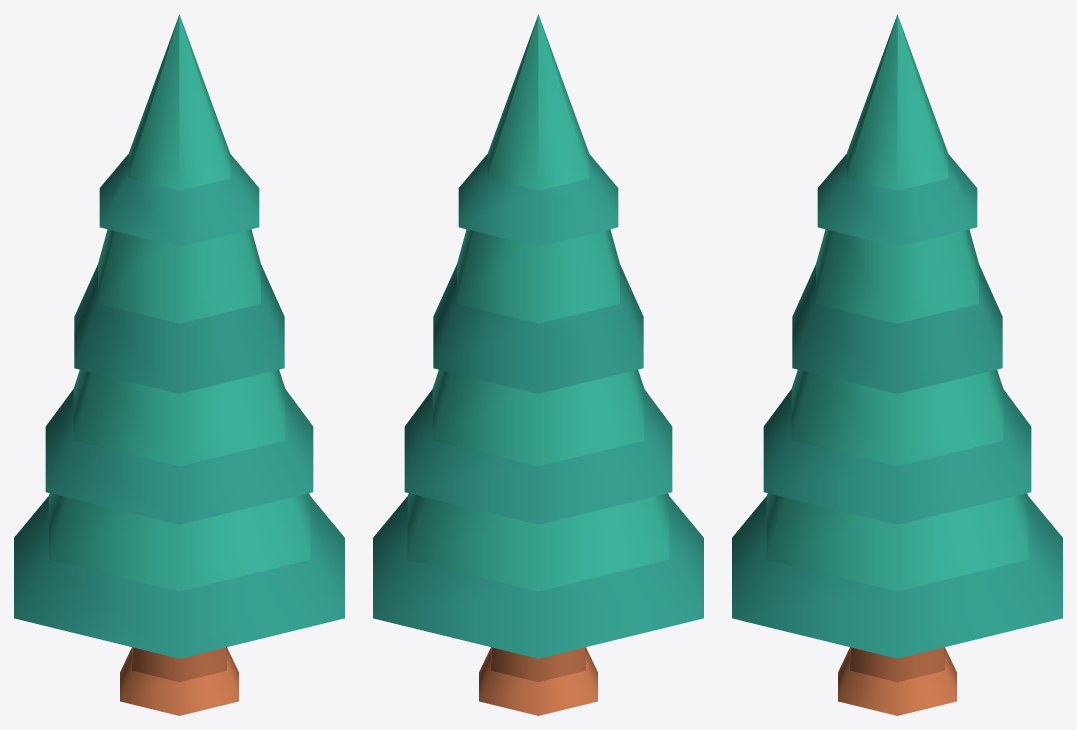
Rendered from pine.fbx.
3 renders of one model, left to right at view 1: azimuth 30°, elevation 25°; view 2: azimuth 150°, elevation 25°; view 3: azimuth 270°, elevation 25°, orthographic.
Parts seen in each view (by area): view 1: pine; view 2: pine; view 3: pine.
Part boxes in pixels (x1,y1,x2,y2): pine: (14,14,344,715); pine: (373,14,703,715); pine: (732,14,1062,715).
Size of the model in its own units: 11.78 by 22.9 by 10.2.
